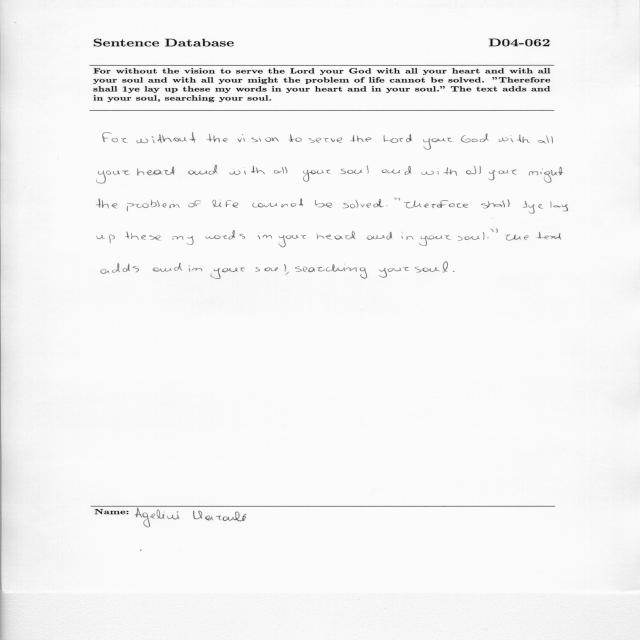word: (295, 264, 367, 279), (136, 133, 196, 144), (127, 200, 180, 212), (529, 167, 563, 183), (404, 200, 469, 208), (252, 199, 304, 208), (97, 171, 130, 184), (101, 263, 139, 274), (210, 268, 245, 279), (343, 199, 384, 208), (415, 262, 448, 273), (205, 230, 245, 239), (419, 235, 451, 246), (423, 138, 452, 150), (317, 231, 355, 240), (303, 170, 331, 182), (278, 235, 306, 247), (138, 167, 175, 176), (379, 267, 409, 278), (238, 134, 279, 142), (422, 167, 458, 176), (488, 170, 517, 181), (230, 166, 265, 175), (126, 232, 161, 241), (188, 165, 217, 175), (461, 133, 489, 143), (382, 166, 411, 175), (481, 200, 510, 209), (153, 263, 182, 272), (523, 201, 543, 214), (384, 134, 412, 143), (103, 133, 128, 143), (499, 135, 530, 143), (340, 166, 369, 174), (212, 200, 239, 208), (97, 199, 118, 209), (367, 232, 393, 240), (536, 232, 561, 240), (309, 137, 342, 143), (172, 236, 194, 245), (550, 202, 568, 212), (504, 234, 529, 241), (207, 134, 228, 142), (97, 235, 115, 244), (350, 136, 372, 143), (315, 200, 332, 208), (538, 135, 553, 144), (466, 166, 481, 174), (255, 267, 278, 272), (288, 134, 302, 142), (458, 236, 480, 241), (487, 229, 498, 238), (402, 232, 414, 240), (189, 201, 202, 208), (189, 265, 202, 272), (274, 167, 288, 173), (258, 235, 272, 239), (284, 264, 289, 275), (394, 198, 400, 201), (483, 232, 485, 240), (453, 271, 454, 272), (387, 206, 388, 206)
